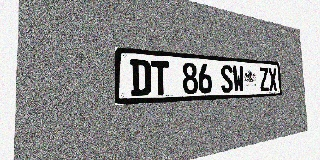6: (198, 63, 212, 94)
8: (182, 62, 198, 94)
D: (130, 59, 151, 96)
S: (220, 65, 233, 93)
T: (151, 60, 170, 95)
W: (232, 65, 244, 92)
X: (268, 68, 278, 91)
Z: (259, 67, 269, 91)
